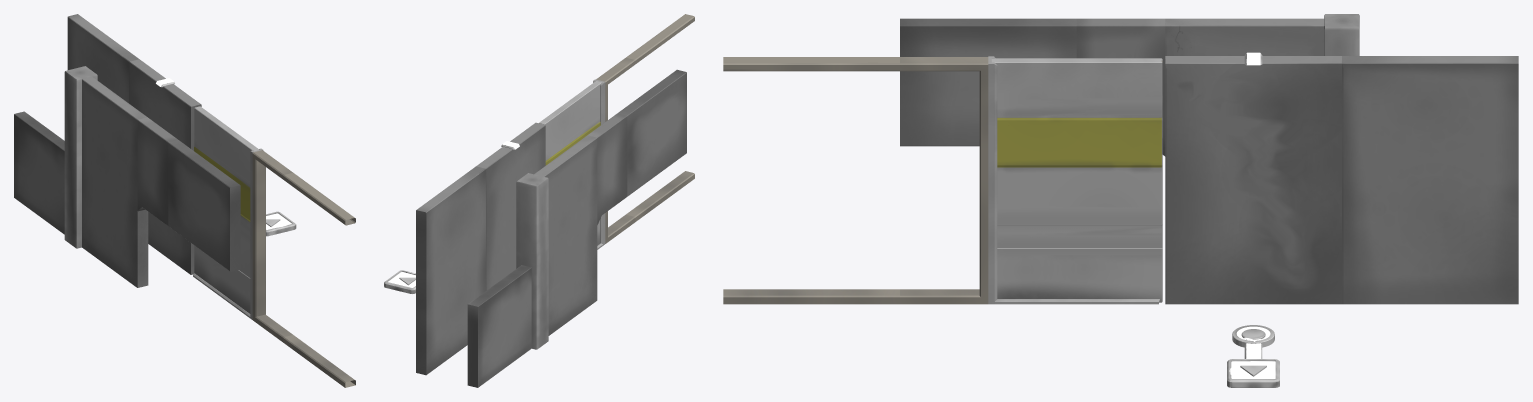
The model's file is WallTiles.glb.
3 renders of one model, left to right at view 1: azimuth 30°, elevation 25°; view 2: azimuth 150°, elevation 25°; view 3: azimuth 270°, elevation 25°, orthographic. The views are drawn at different scales.
Parts seen in each view (by area): view 1: Wall.001, Wall_U, Door, Wall.003, Wall_D, Column, Wall.002, Glass_L, Wall_U_L, Glass, RedstoneConcentrator, Door_L; view 2: Wall.002, Wall.001, Wall_D, Wall_U, Wall.003, Column, Wall_U_L, Door, Glass, Glass_L, RedstoneConcentrator, Door_L; view 3: Wall.002, Wall.003, Door, Wall_U, Wall.001, Glass, Glass_L, Wall_U_L, Door_L, RedstoneConcentrator, Column, Door_D (+1 smaller).
Boxes of the visible parts, box(x1,y1,x2,y2) form: Wall.001: box(82, 76, 148, 287); Wall_U: box(168, 140, 240, 271); Door: box(194, 106, 259, 313); Wall.003: box(129, 59, 201, 274); Wall_D: box(14, 111, 64, 234); Column: box(64, 66, 97, 248); Wall.002: box(67, 14, 138, 103); Glass_L: box(252, 150, 292, 342); Wall_U_L: box(137, 117, 177, 225); Glass: box(283, 172, 355, 387); RedstoneConcentrator: box(266, 211, 296, 236); Door_L: box(250, 148, 263, 319); Wall.002: box(416, 166, 485, 375); Wall.001: box(534, 135, 597, 335); Wall_D: box(467, 265, 531, 387); Wall_U: box(617, 69, 686, 196); Wall.003: box(476, 122, 545, 290); Column: box(516, 173, 548, 349); Wall_U_L: box(588, 113, 627, 224); Door: box(539, 81, 601, 245); Glass: box(626, 14, 694, 221); Glass_L: box(596, 58, 635, 243); RedstoneConcentrator: box(384, 270, 415, 293); Door_L: box(593, 79, 605, 245); Wall.002: box(1342, 56, 1518, 304); Wall.003: box(1165, 56, 1341, 304); Door: box(991, 58, 1162, 302); Wall_U: box(900, 18, 1076, 146); Wall.001: box(1165, 18, 1324, 55); Glass: box(723, 57, 899, 304); Glass_L: box(900, 57, 988, 304); Wall_U_L: box(1076, 18, 1165, 156); Door_L: box(988, 56, 997, 304); RedstoneConcentrator: box(1227, 359, 1279, 387); Column: box(1324, 14, 1359, 55); Door_D: box(994, 299, 1159, 304).
Bounding box in the file's own units: 3.5 × 3.06 × 9.
1 material, 1 textured.
